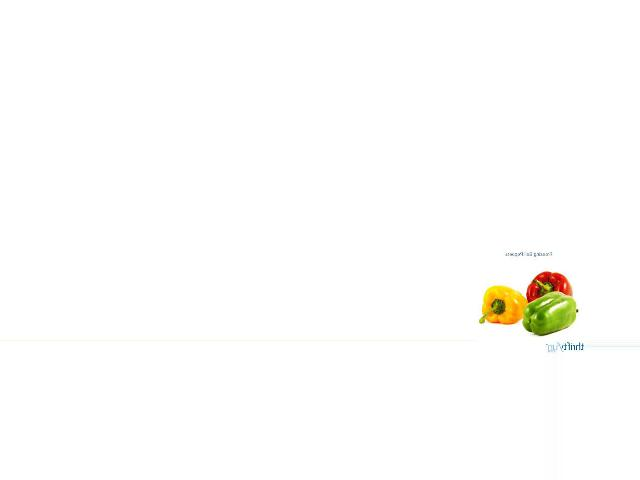bell_pepper: (518, 292, 579, 340)
